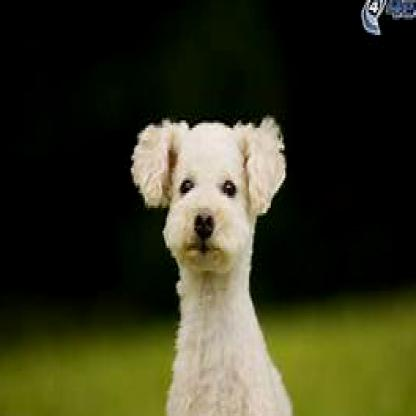dog: (131, 113, 294, 413)
